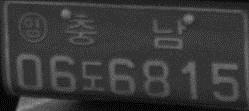0: (15, 52, 44, 93)
1: (177, 59, 205, 102)
5: (210, 61, 240, 103)
6: (47, 54, 77, 95), (108, 57, 137, 97)
8: (142, 59, 172, 100)
도: (80, 60, 106, 93)
영: (17, 10, 49, 44)
충남_D: (65, 12, 185, 50)
